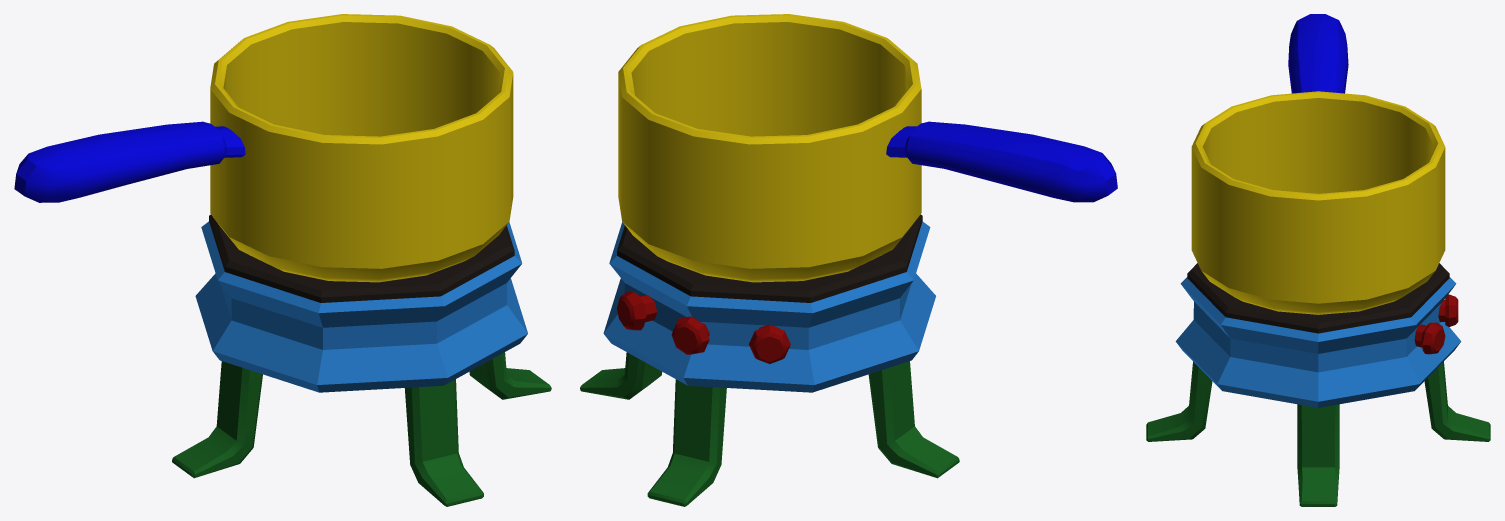
The model's file is Pan-2.FBX.
The picture shows the model from 3 angles, left to right: view 1: azimuth 30°, elevation 25°; view 2: azimuth 150°, elevation 25°; view 3: azimuth 270°, elevation 25°; orthographic projection. The views are drawn at different scales.
Visible parts, largest first — view 1: Pan-2; view 2: Pan-2; view 3: Pan-2.
Part boxes in pixels (left/top/right/bottom): Pan-2: left=14, top=14, right=551, bottom=506; Pan-2: left=580, top=14, right=1117, bottom=506; Pan-2: left=1146, top=14, right=1490, bottom=506.
Size of the model in its own units: 1324 by 911 by 852.
